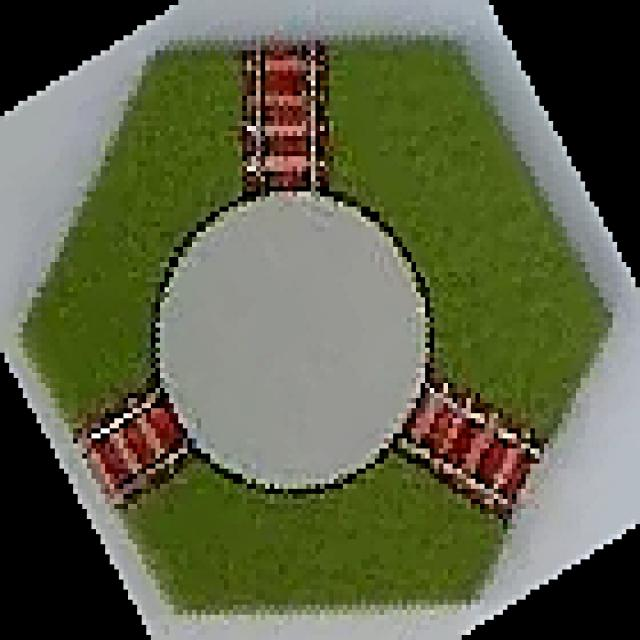11_0: (21, 38, 612, 621)
